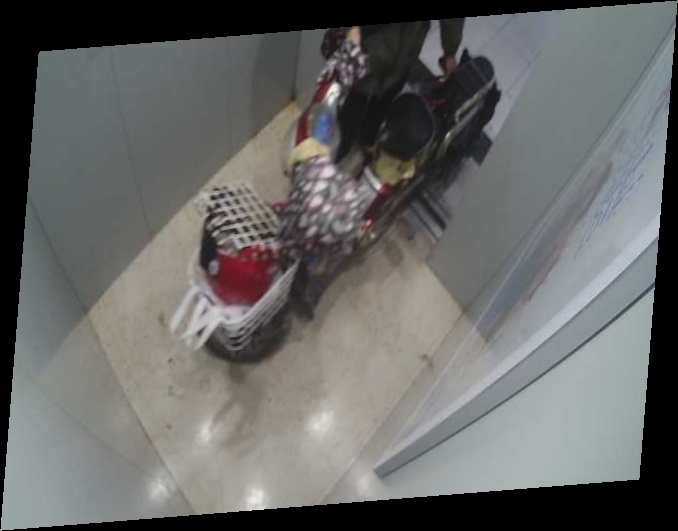electromobile: (169, 70, 483, 361)
